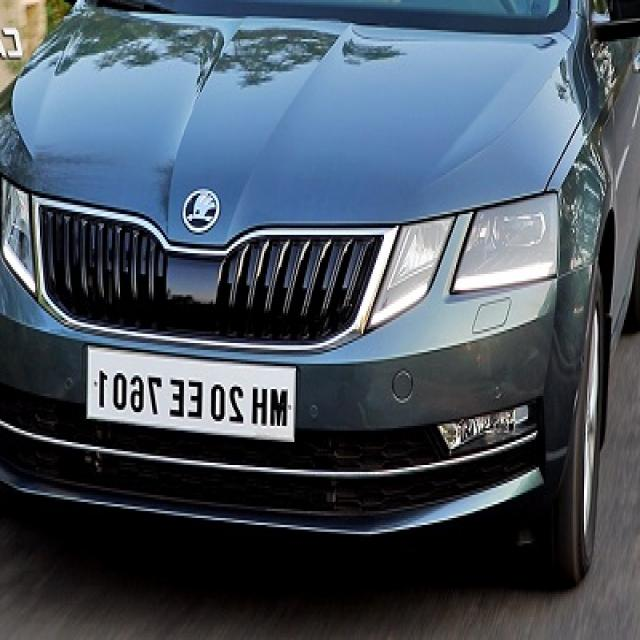license_plate: (78, 339, 302, 448)
